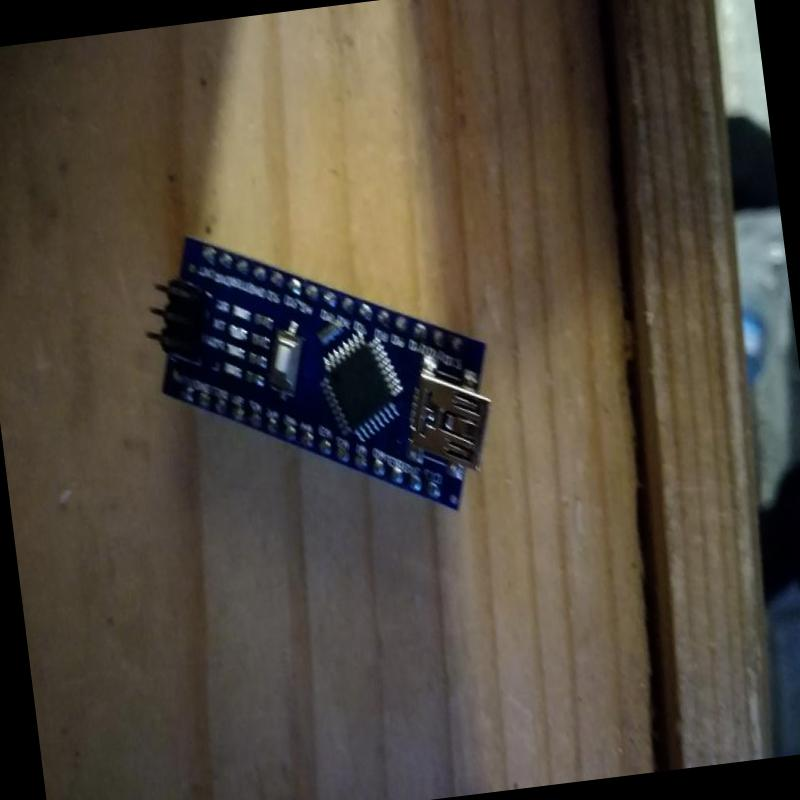Arduino_Nano: (138, 200, 511, 552)
